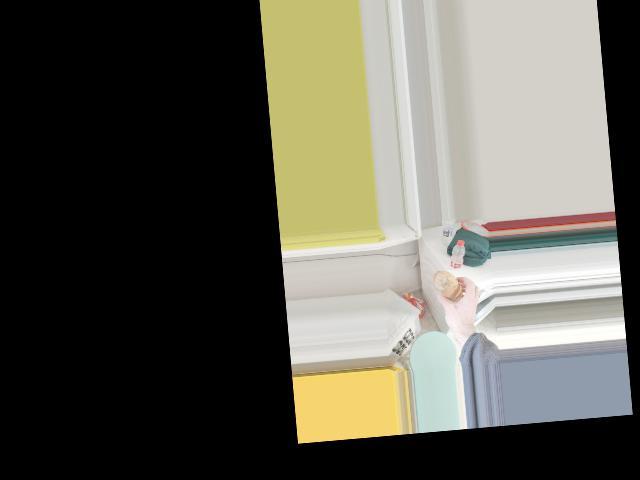sweet_potato: (433, 268, 463, 304)
